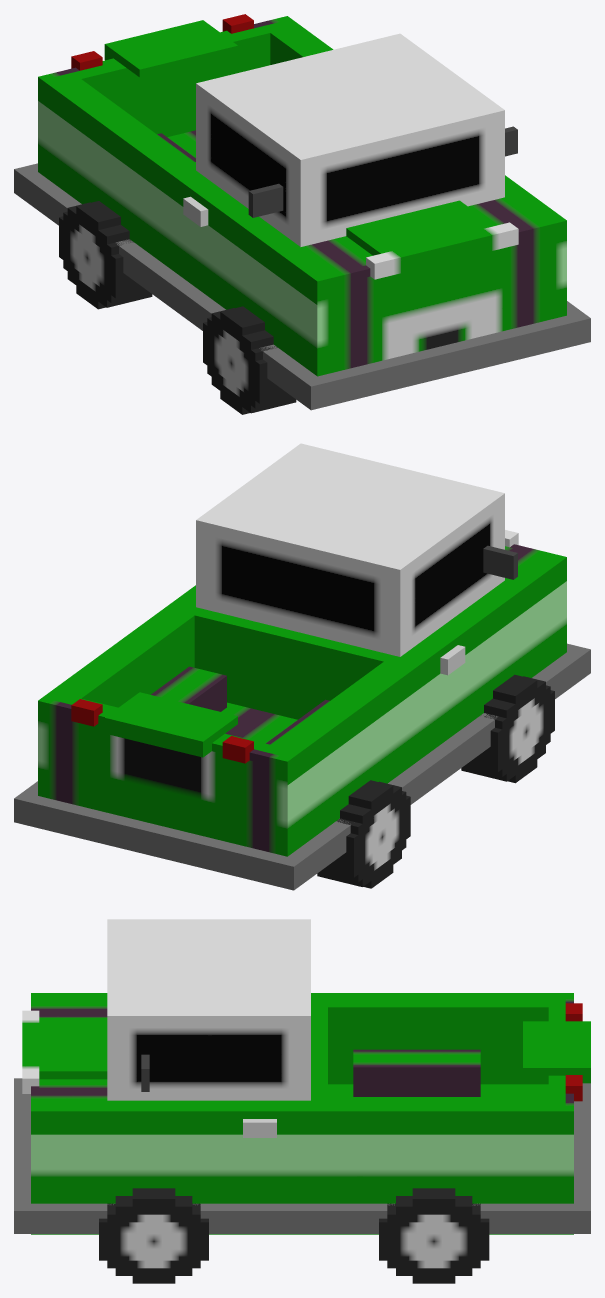
Rendered from car_2_seats_4.fbx.
3 views of the same model, one above another, from view 1: azimuth 30°, elevation 25°; view 2: azimuth 150°, elevation 25°; view 3: azimuth 270°, elevation 25° (orthographic). The views are drawn at different scales.
Visible parts, largest first — view 1: body, back_right_wheel, back_left_wheel; view 2: body, back_left_wheel, back_right_wheel; view 3: body, front_left_wheel, front_right_wheel.
Boxes of the visible parts, x1,y1,x2,y2 form: body: (14,14,590,410); back_right_wheel: (203,306,296,414); back_left_wheel: (59,201,152,309); body: (14,443,590,890); back_left_wheel: (317,780,410,888); back_right_wheel: (461,674,554,783); body: (14,919,590,1234); front_left_wheel: (379,1188,489,1283); front_right_wheel: (99,1188,208,1283).
Bounding box in the file's own units: 39 × 32 × 68.
1 material, 1 textured.
